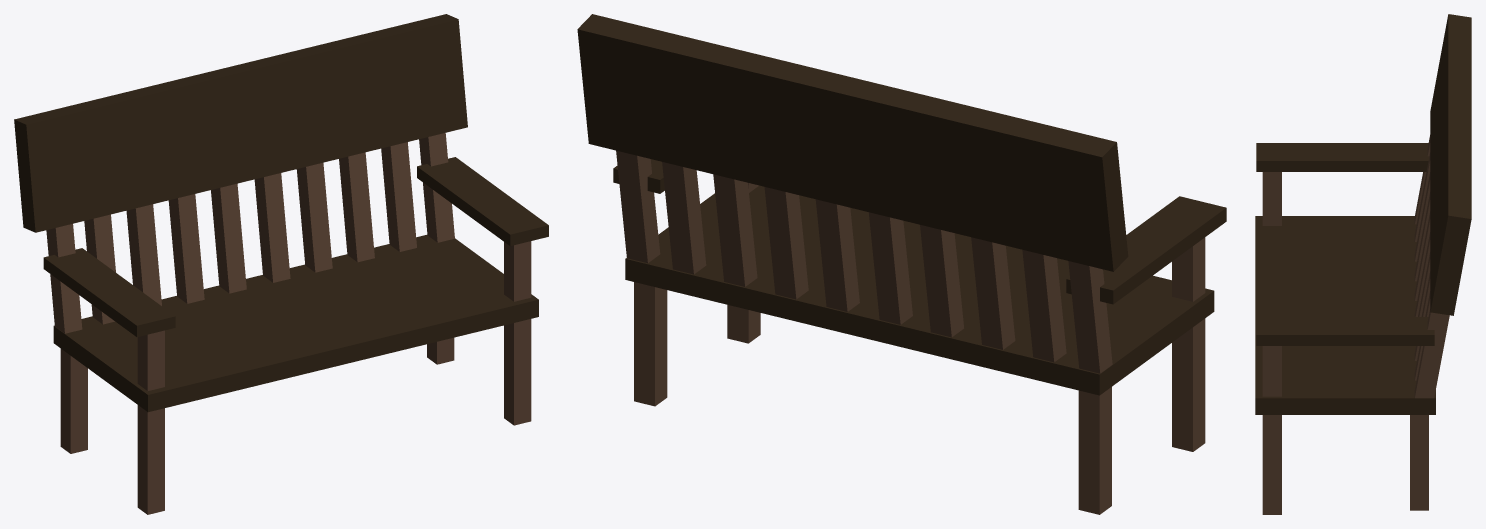
Rendered from banco.fbx.
The picture shows the model from 3 angles, left to right: view 1: azimuth 30°, elevation 25°; view 2: azimuth 150°, elevation 25°; view 3: azimuth 270°, elevation 25°; orthographic projection. The views are drawn at different scales.
Visible parts, largest first — view 1: banco_Matheus; view 2: banco_Matheus; view 3: banco_Matheus.
Boxes of the visible parts, x1,y1,x2,y2 form: banco_Matheus: [14, 14, 548, 514]; banco_Matheus: [577, 14, 1226, 514]; banco_Matheus: [1255, 14, 1471, 514].
Size of the model in its own units: 170 by 122 by 77.18.
